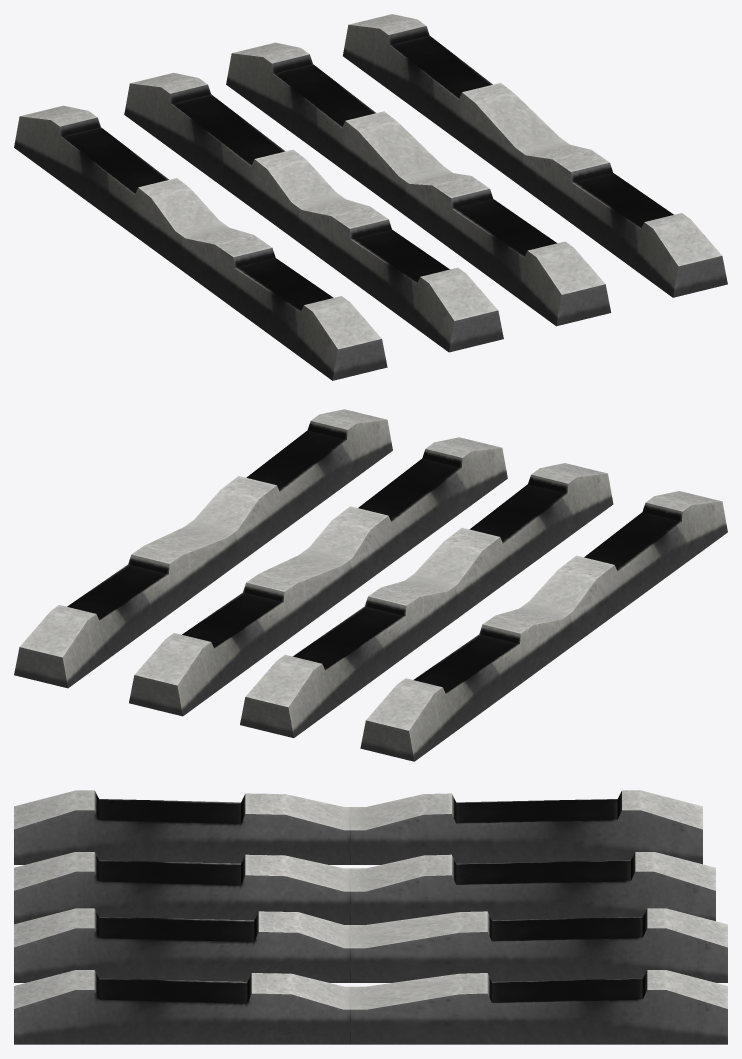
The model's file is spala_only3 1.fbx.
The picture shows the model from 3 angles, top to bottom: view 1: azimuth 30°, elevation 25°; view 2: azimuth 150°, elevation 25°; view 3: azimuth 270°, elevation 25°; orthographic projection. The views are drawn at different scales.
Parts seen in each view (by area): view 1: spala_only_3; view 2: spala_only_3; view 3: spala_only_3.
Boxes of the visible parts, x1=… form: spala_only_3: x1=14, y1=14, x2=727, y2=380; spala_only_3: x1=14, y1=409, x2=727, y2=761; spala_only_3: x1=14, y1=790, x2=727, y2=1044.
Size of the model in its own units: 204 by 22.85 by 296.
